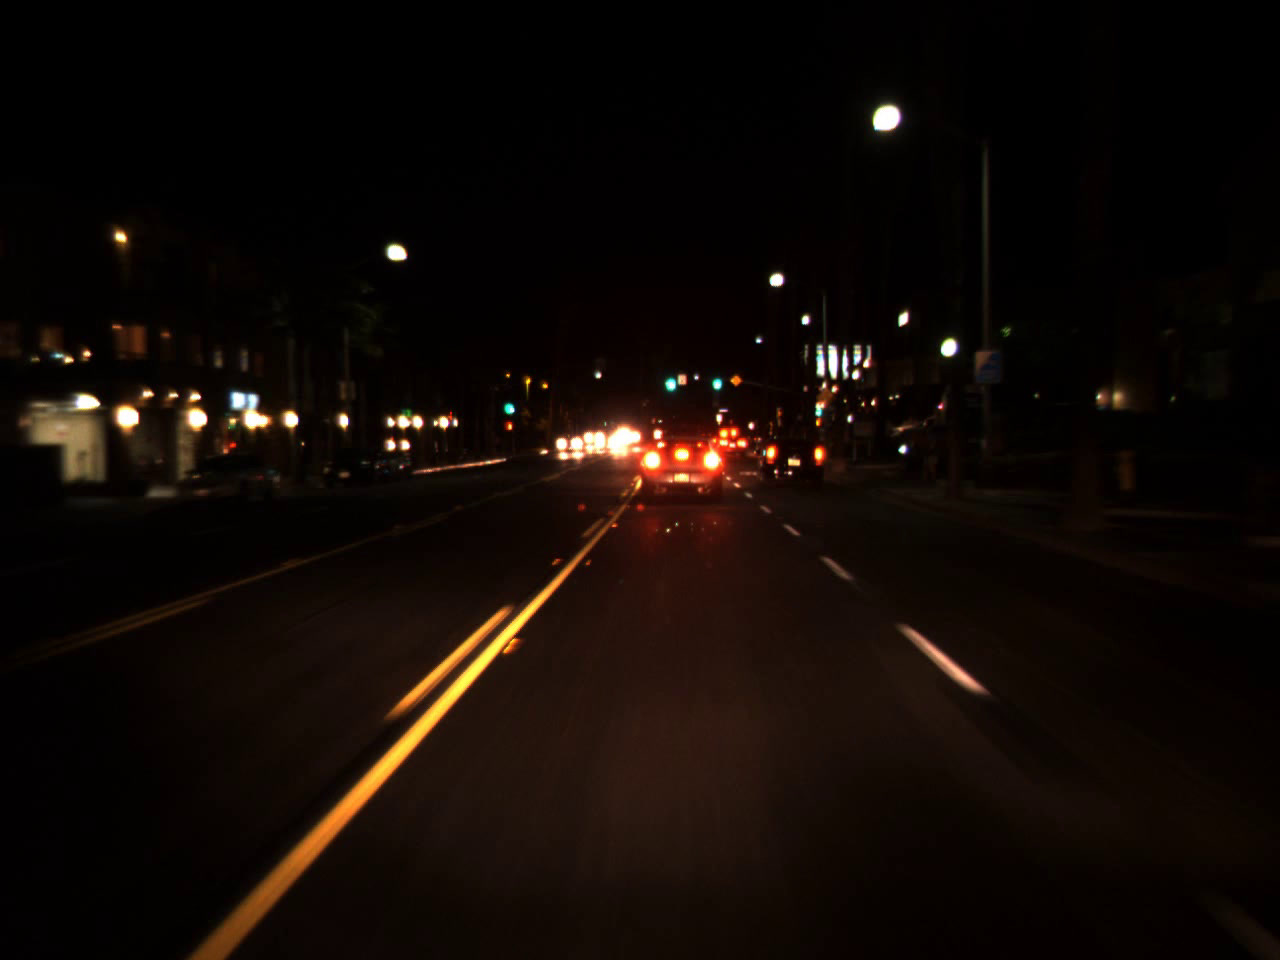go: (661, 362, 677, 395), (501, 390, 515, 417), (709, 372, 723, 387)
